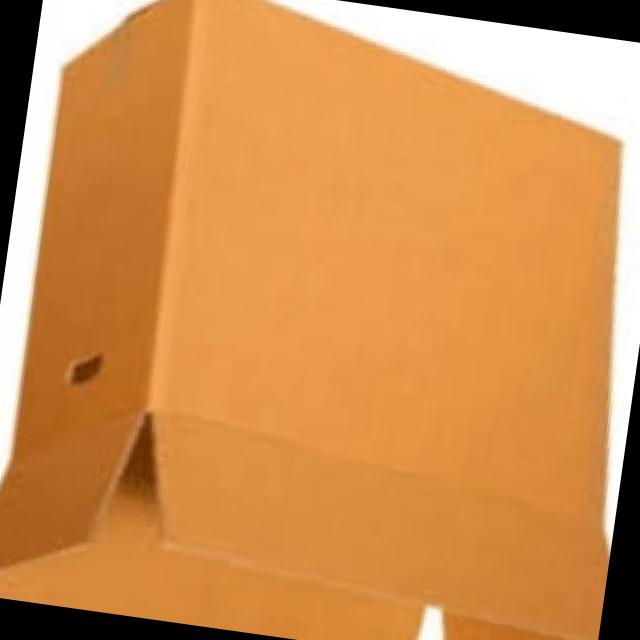cardboard paper: (0, 0, 621, 640)
